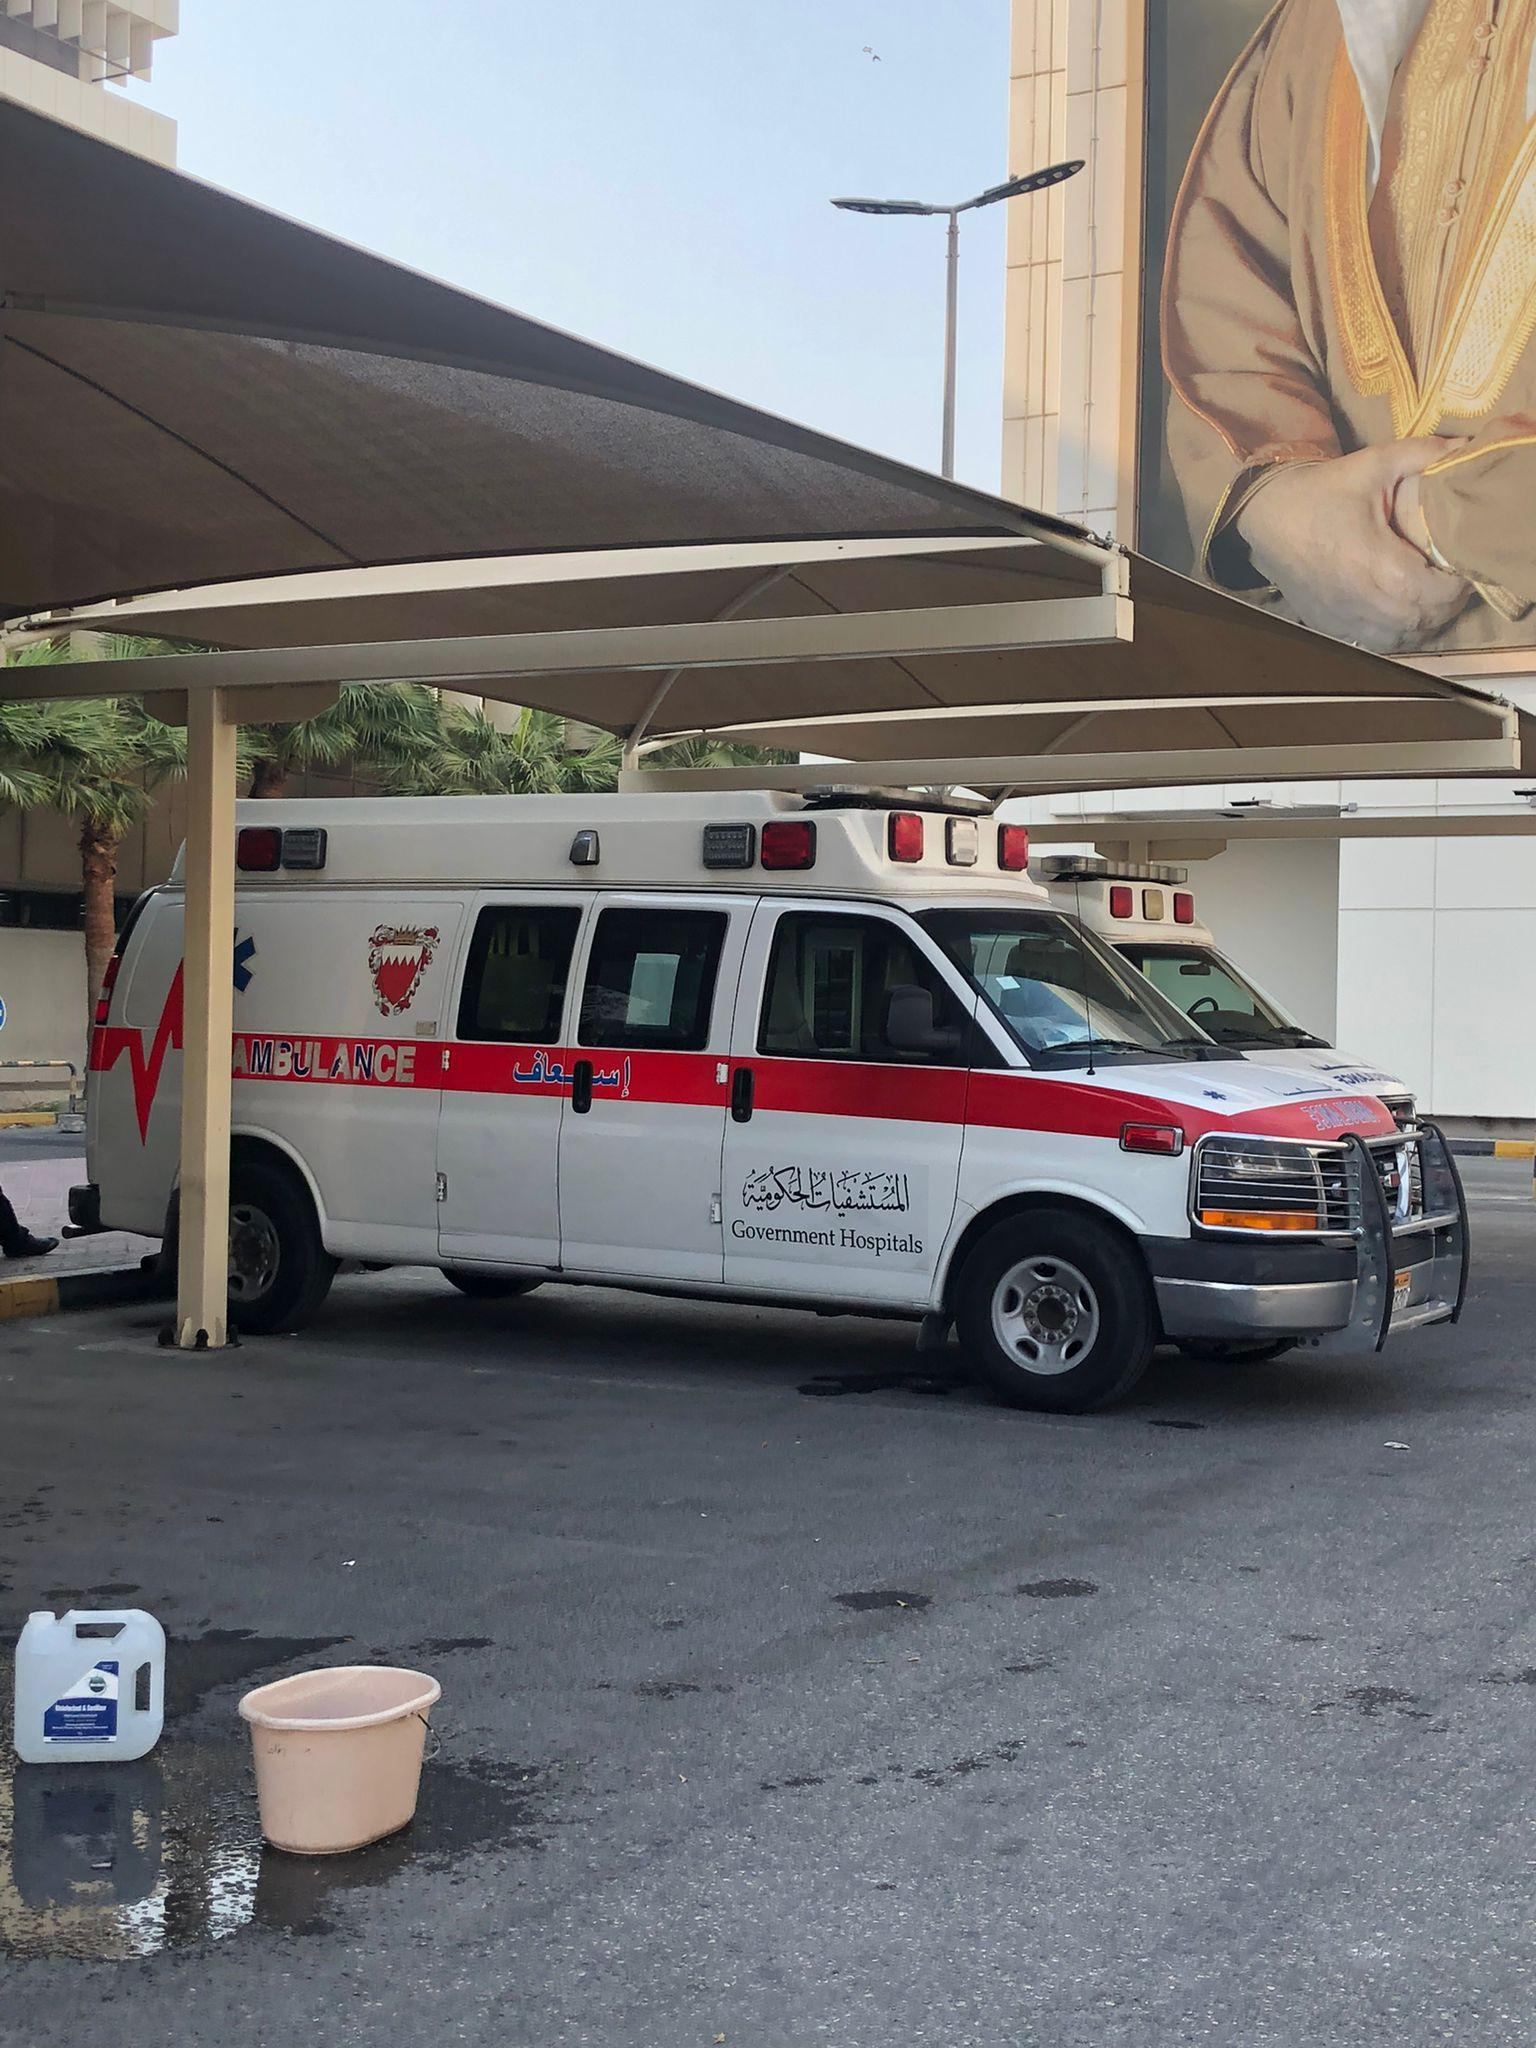ambulance_off: (69, 780, 1475, 1414), (1029, 851, 1417, 1126)
